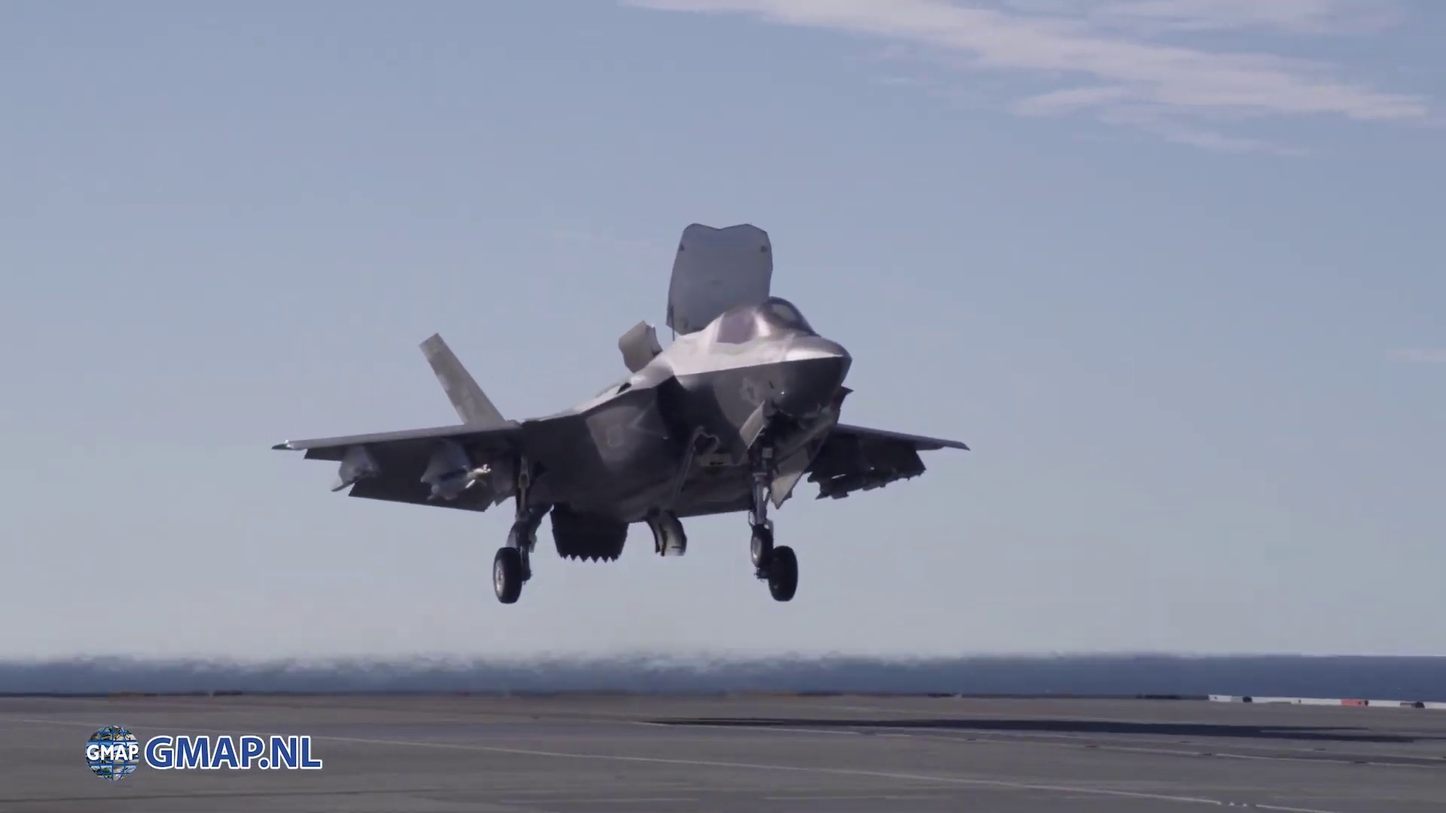F35: (279, 227, 974, 607)
